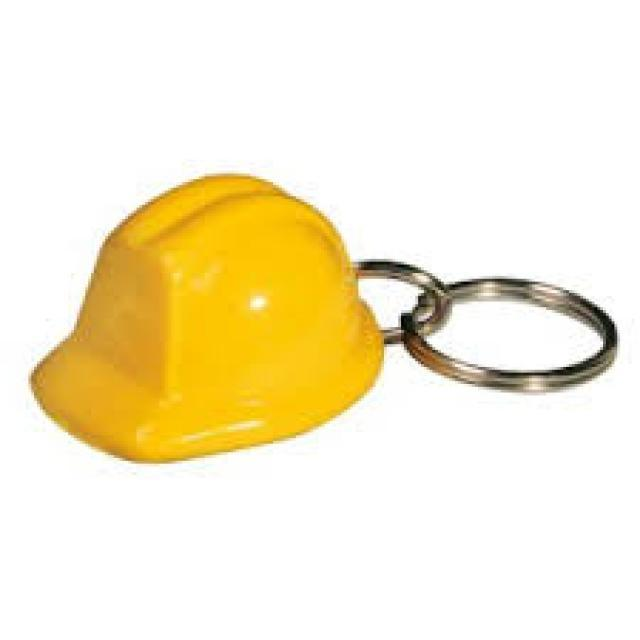helmet: (26, 170, 389, 465)
